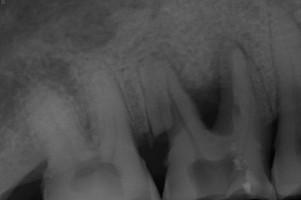Dental Caries: (185, 34, 251, 131)
